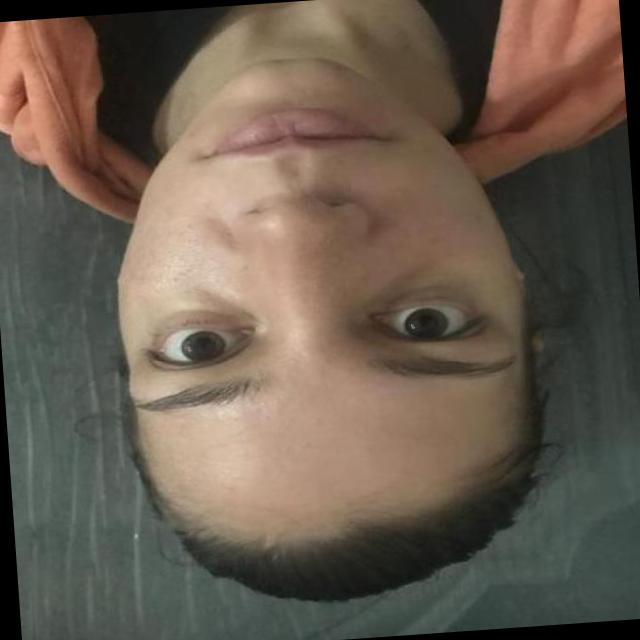bareface: (70, 54, 584, 614)
